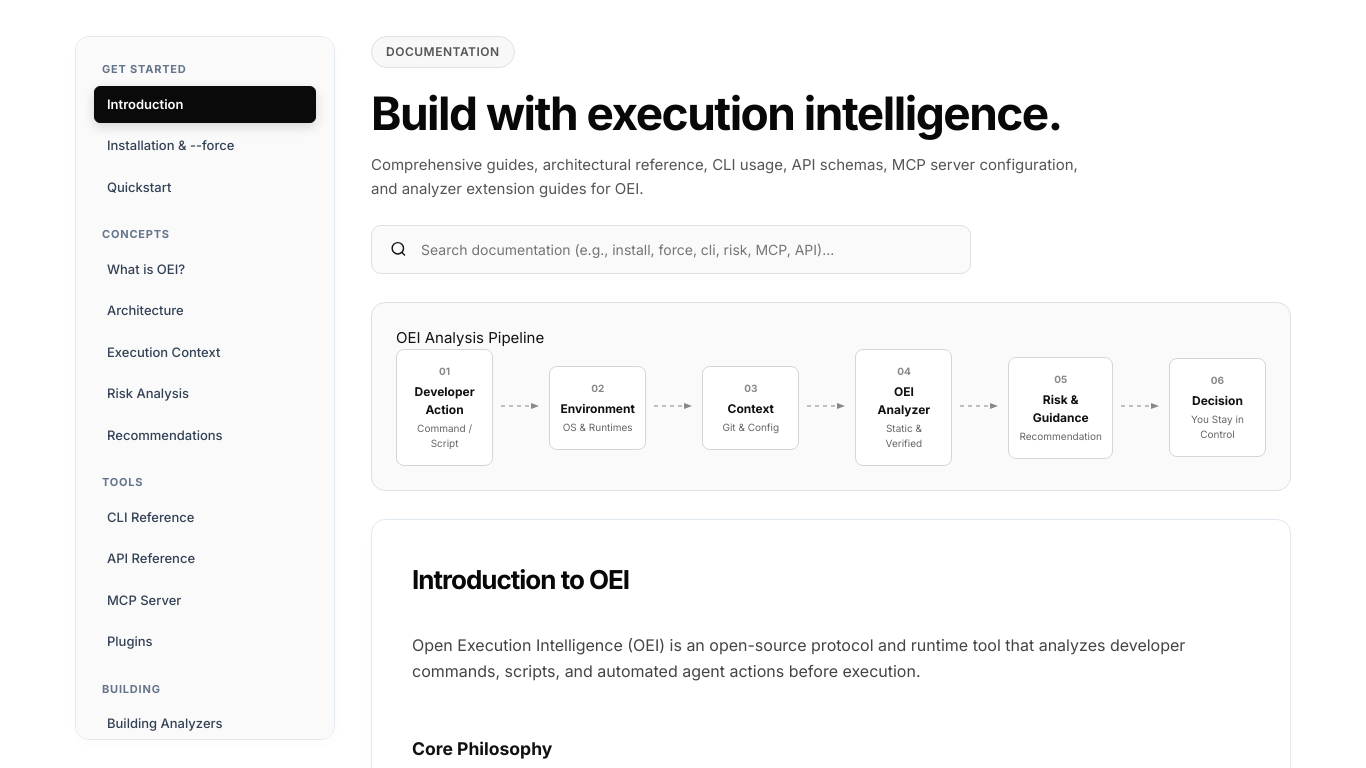
Test: DocsPage › renders the dedicated article for Architecture
What coordinates should you click on to do the following:
click the button "Architecture"
I would click on:
 (205, 311)
Its box is [94,292,316,330].
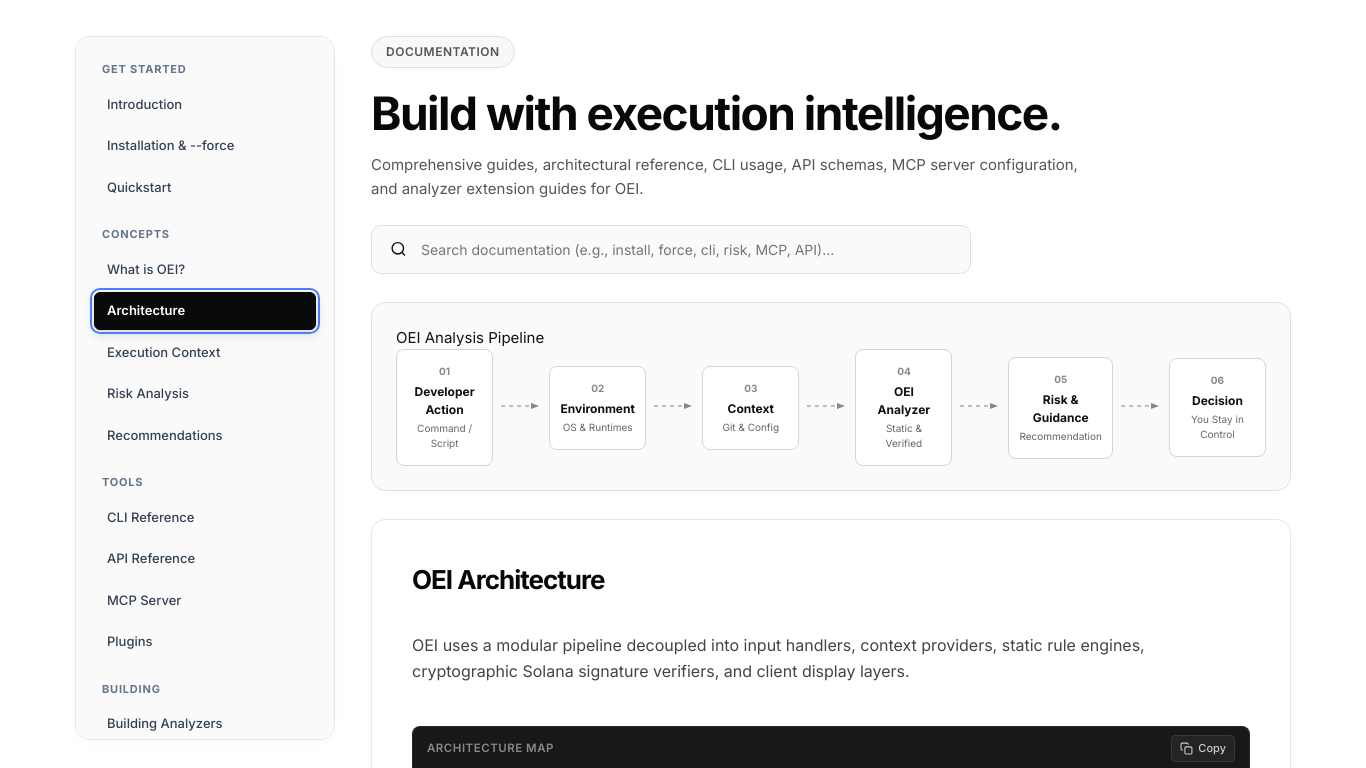
Check: the heading "OEI Architecture" is shown, box [412,564,604,595]
Check: the heading "Introduction to OEI" is gone
